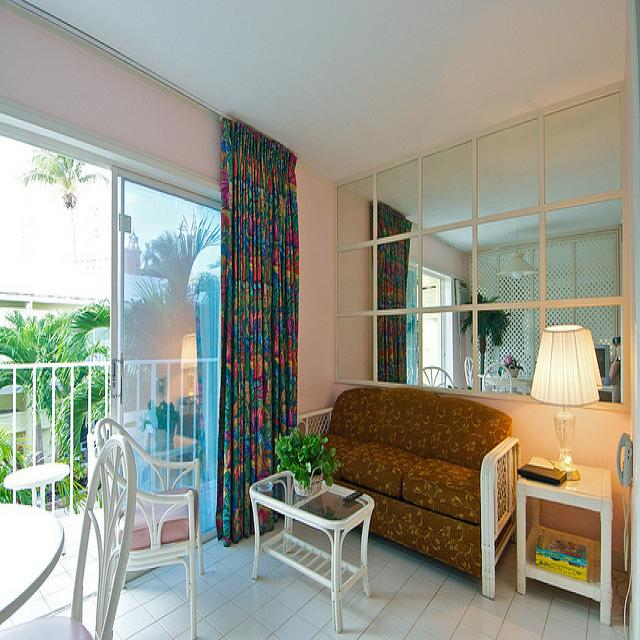chair: (1, 428, 139, 640), (93, 416, 206, 631)
dining table: (0, 504, 63, 630)
